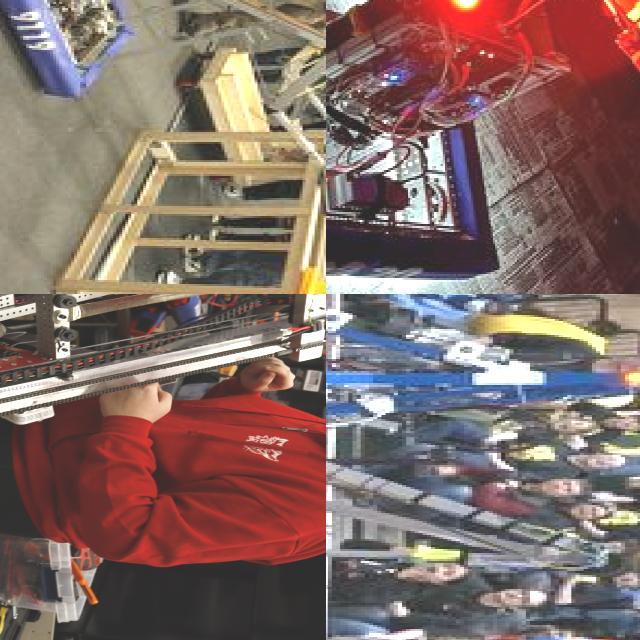FRC-Robots: (326, 0, 640, 290), (0, 294, 326, 517), (326, 294, 640, 469), (326, 460, 617, 610), (0, 0, 326, 102)
